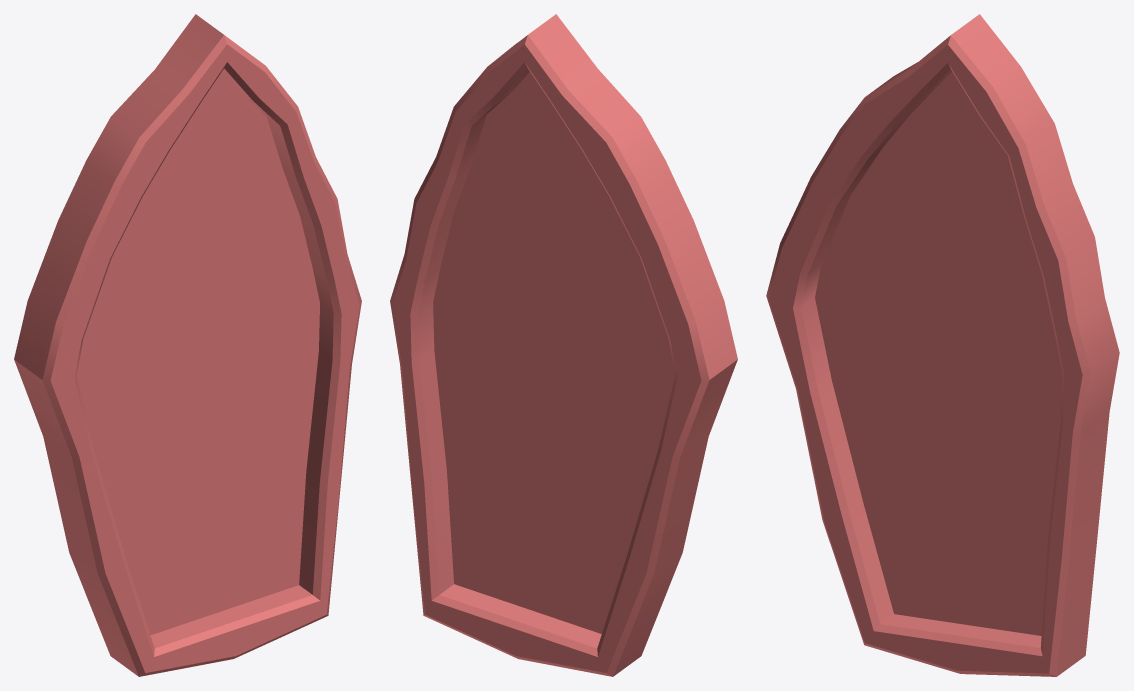
The model's file is Mesh_Ventana_v001.fbx.
The picture shows the model from 3 angles, left to right: view 1: azimuth 30°, elevation 25°; view 2: azimuth 150°, elevation 25°; view 3: azimuth 330°, elevation 25°; orthographic projection.
Parts seen in each view (by area): view 1: Mesh_Ventana_v001; view 2: Mesh_Ventana_v001; view 3: Mesh_Ventana_v001.
Boxes of the visible parts, bbox=[...] form: Mesh_Ventana_v001: bbox=[14, 14, 361, 676]; Mesh_Ventana_v001: bbox=[390, 14, 737, 676]; Mesh_Ventana_v001: bbox=[766, 14, 1119, 676].
Bounding box in the file's own units: 3.68 × 6.9 × 0.6837.
